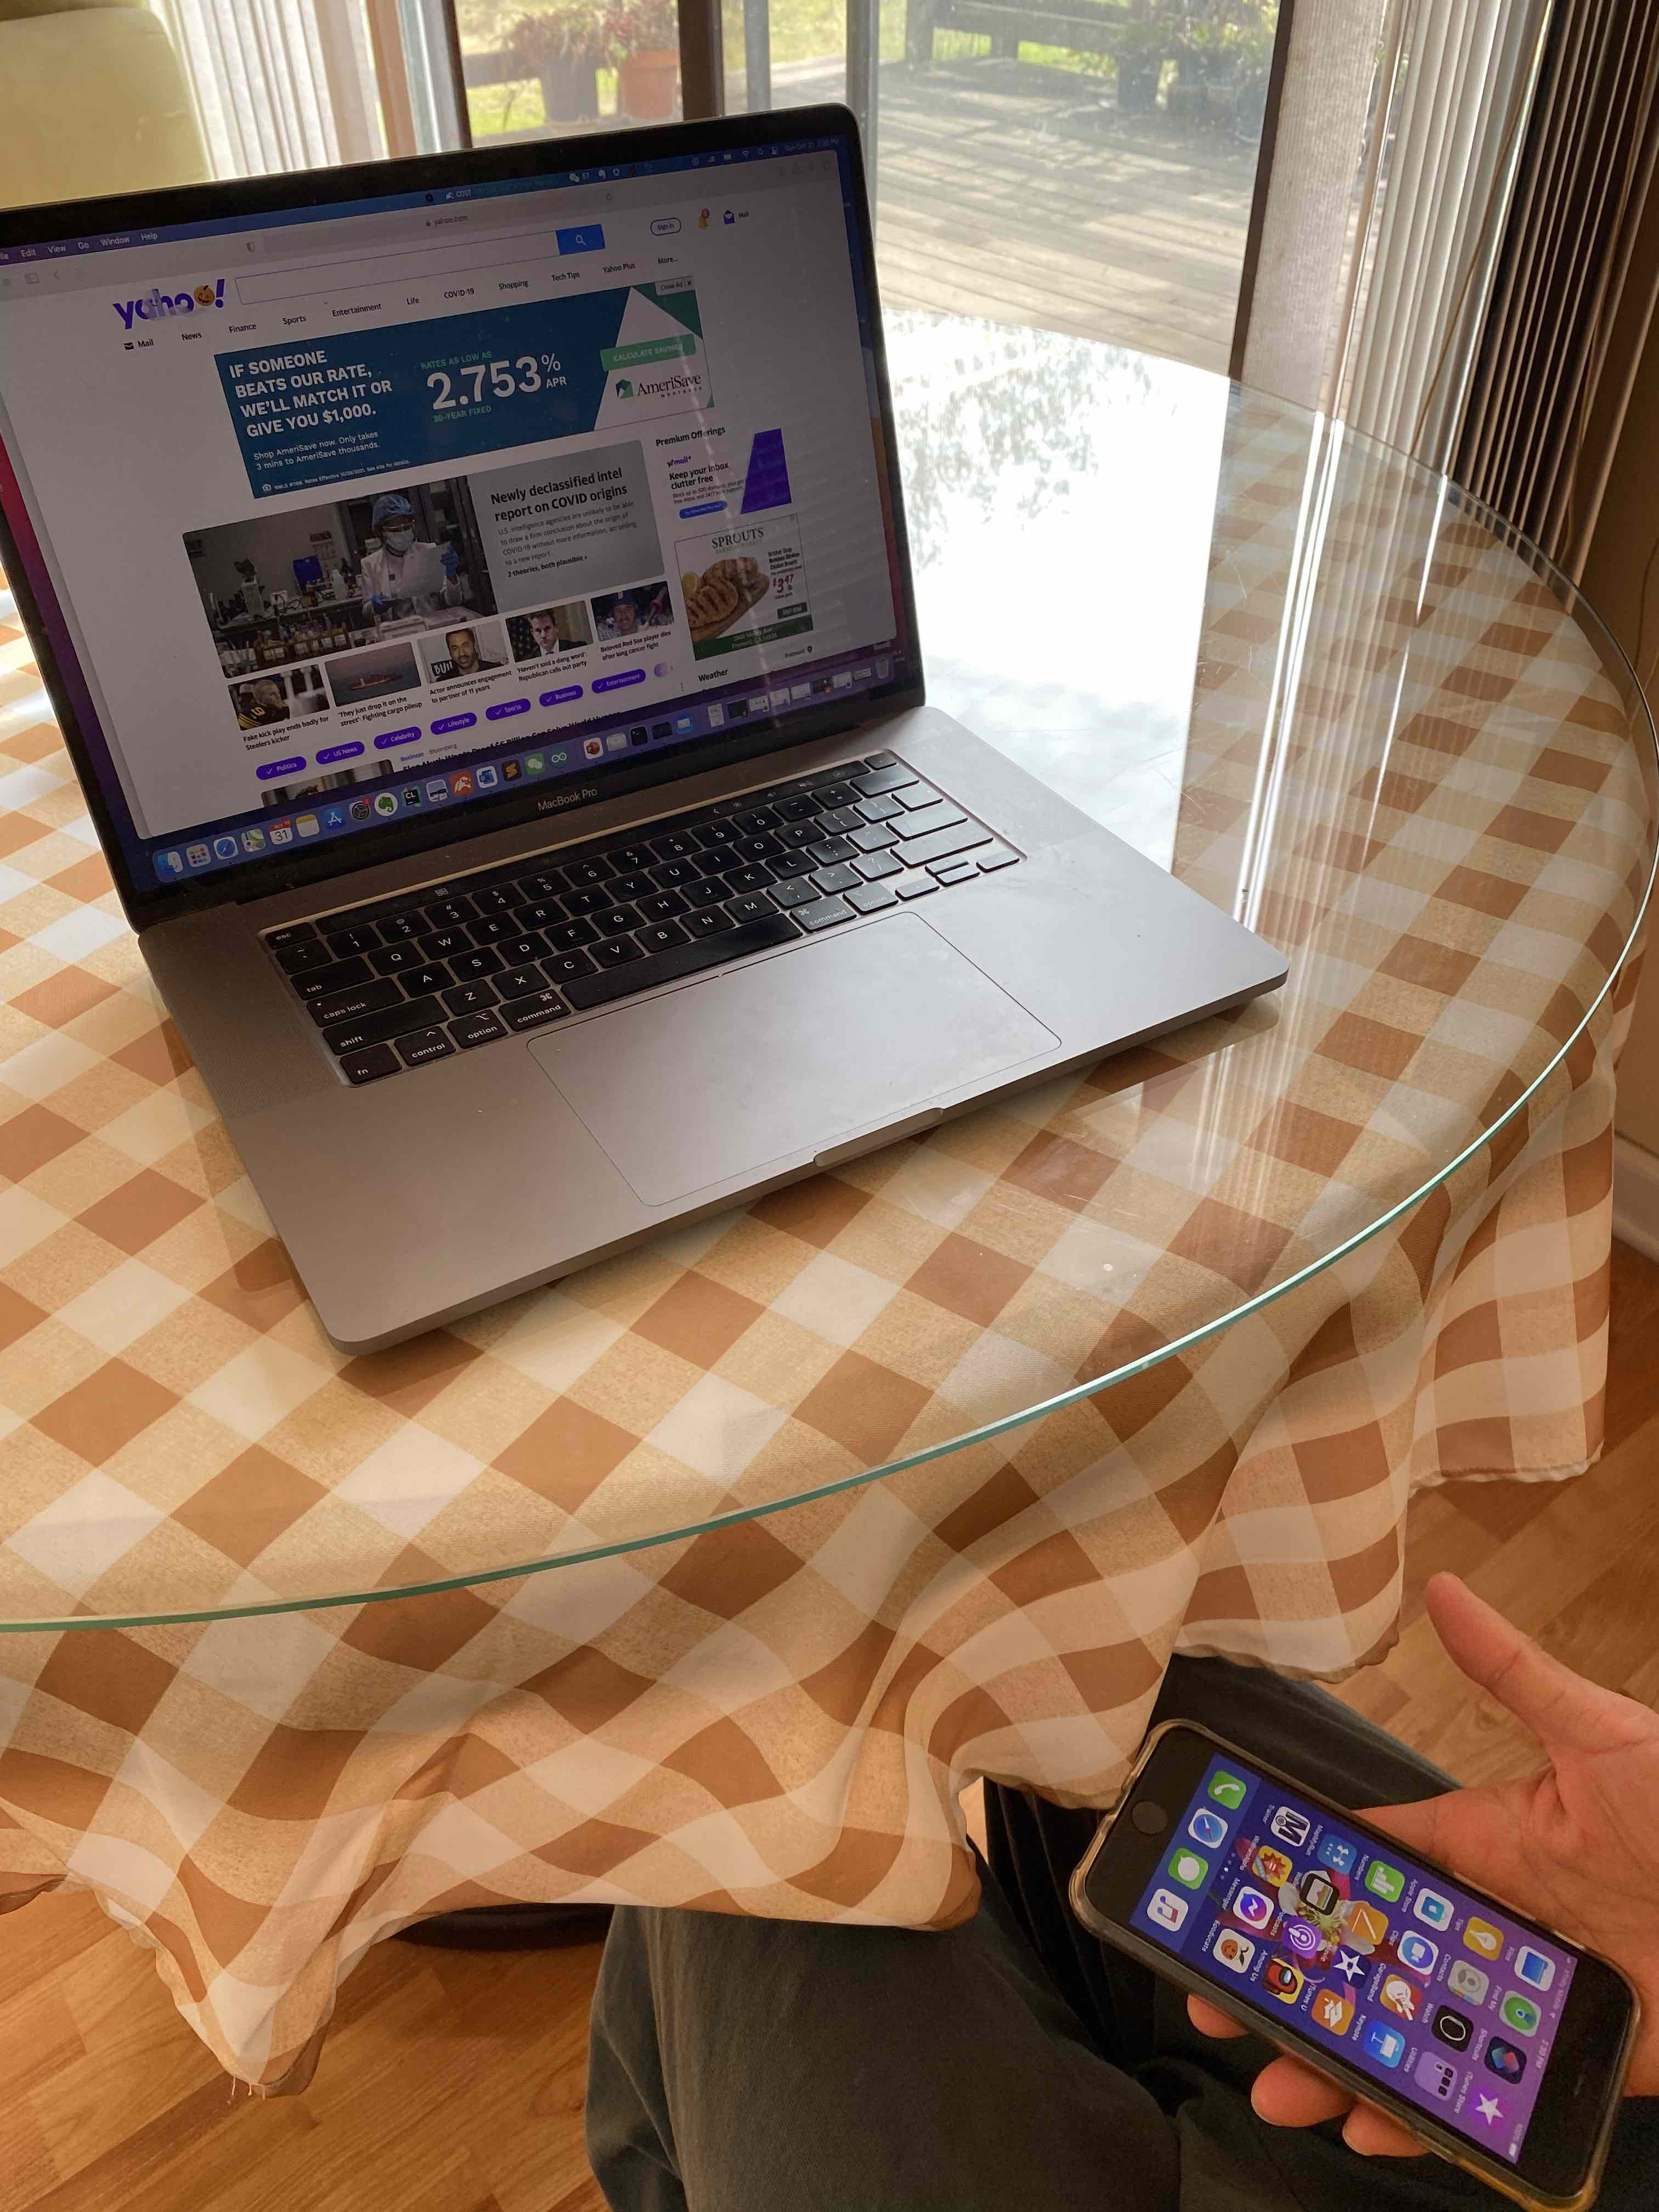Cell Phone: (1051, 1723, 1635, 2212)
